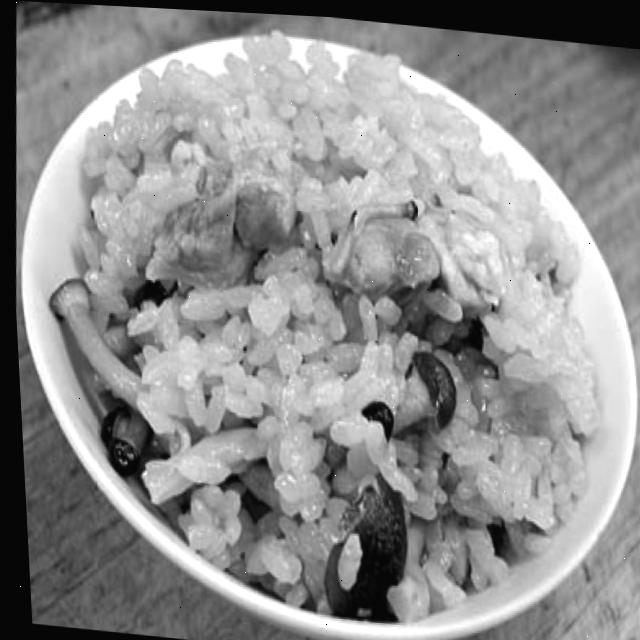米饭主食: (22, 17, 615, 640)
